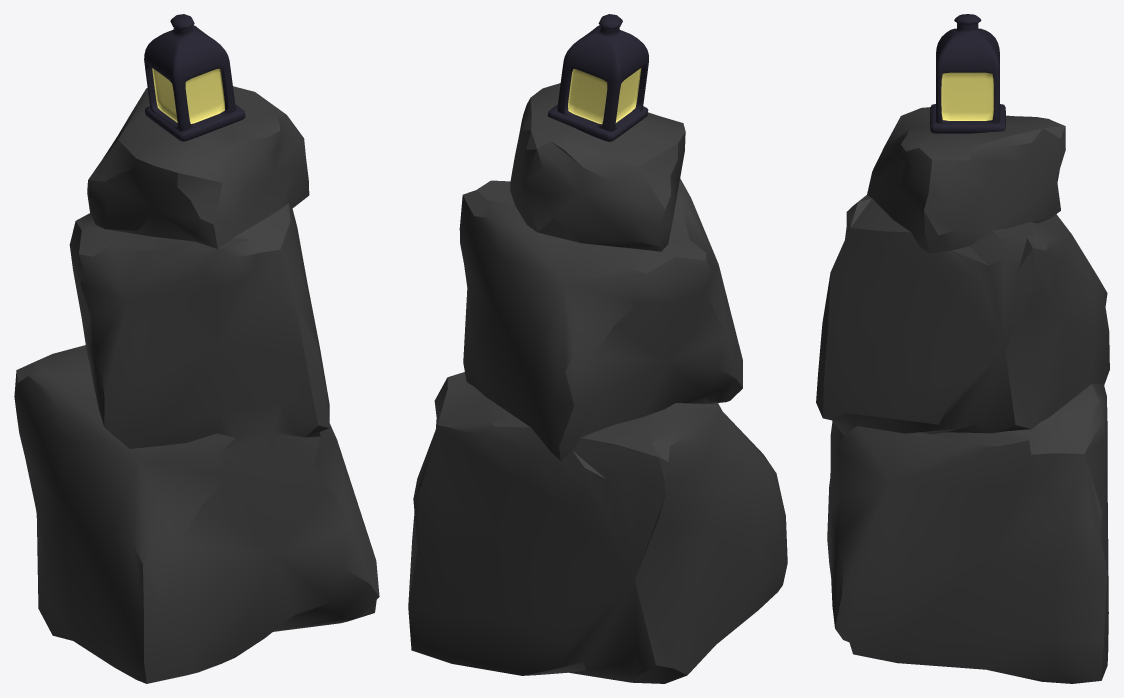
The model's file is DoorLantern.fbx.
3 views of the same model, side by side, from view 1: azimuth 30°, elevation 25°; view 2: azimuth 150°, elevation 25°; view 3: azimuth 270°, elevation 25° (orthographic). The views are drawn at different scales.
Visible parts, largest first — view 1: Cube, Cube.001; view 2: Cube, Cube.001; view 3: Cube, Cube.001.
Part boxes in pixels (x1=…): Cube: x1=14, y1=86, x2=379, y2=683; Cube.001: x1=144, y1=14, x2=245, y2=141; Cube: x1=408, y1=83, x2=787, y2=683; Cube.001: x1=547, y1=14, x2=648, y2=141; Cube: x1=816, y1=107, x2=1109, y2=683; Cube.001: x1=930, y1=14, x2=1005, y2=133.
Size of the model in its own units: 200 by 478 by 209.
